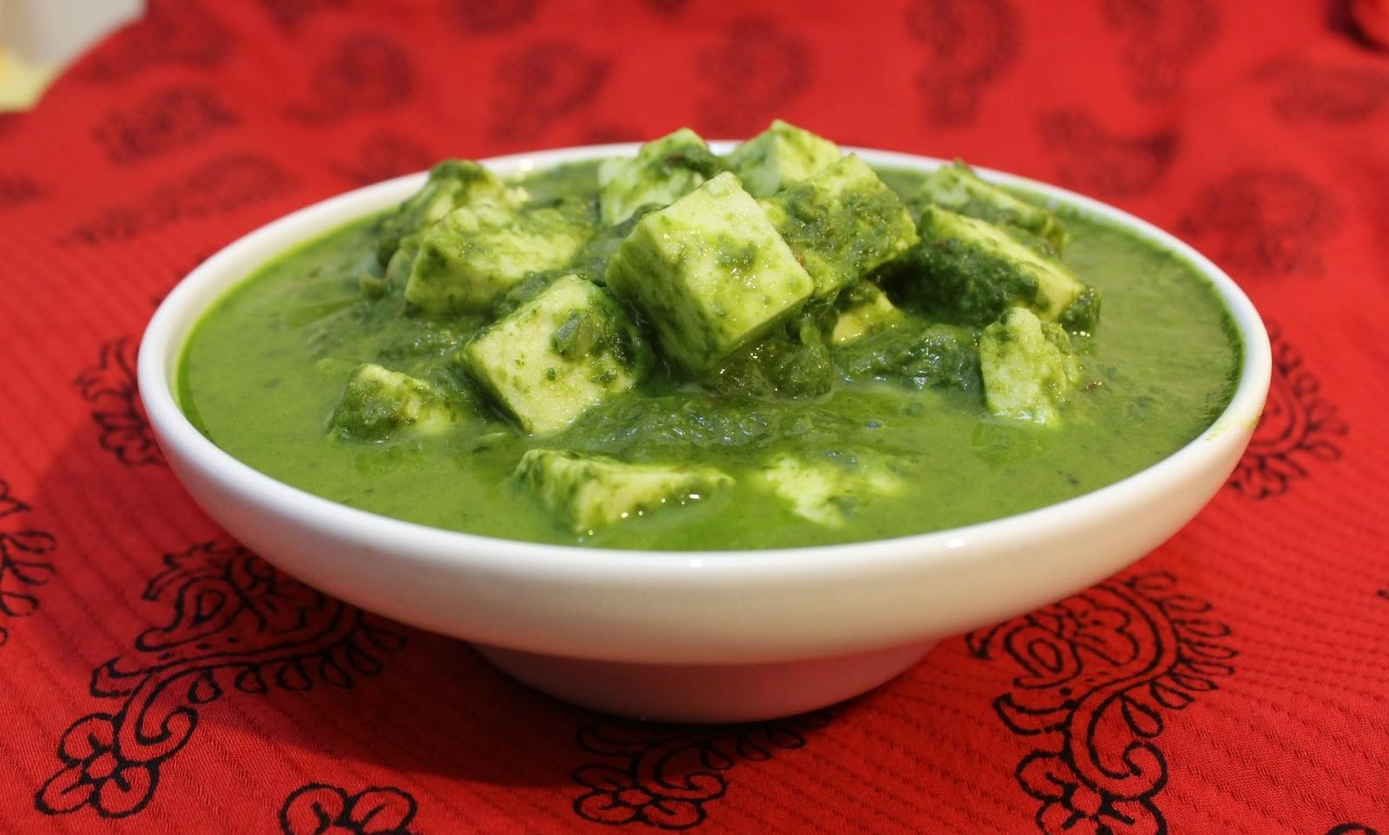PalakPaneer: (174, 115, 1248, 556)
